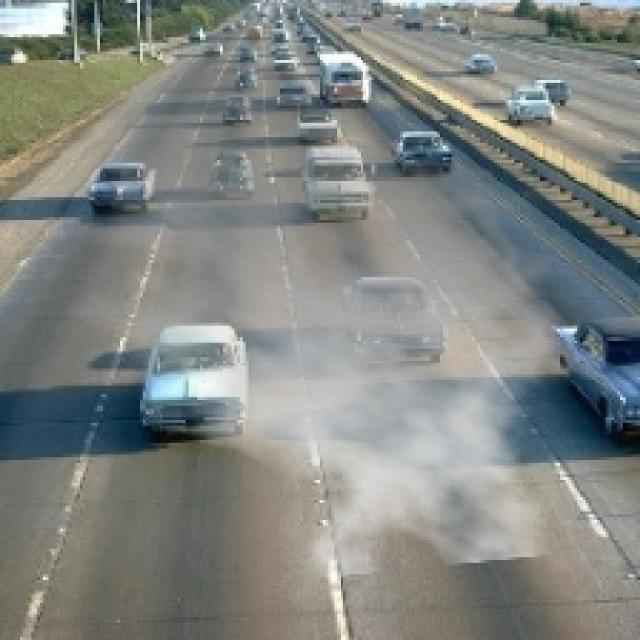smoke: (29, 43, 592, 580)
